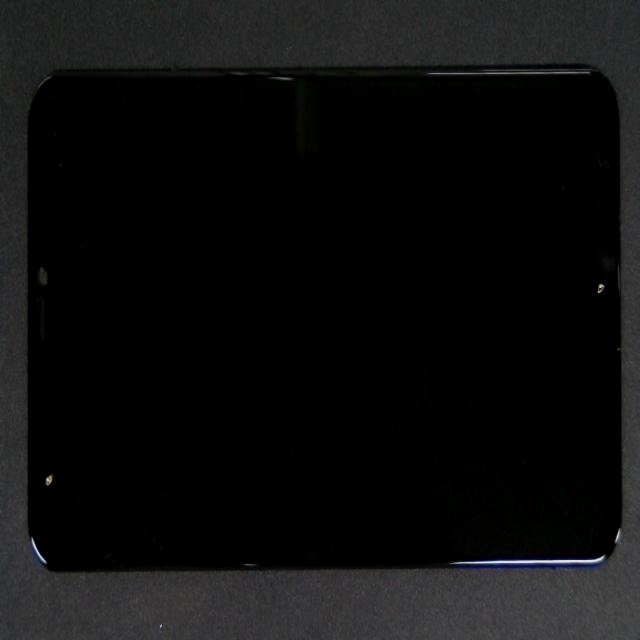stain: (3, 199, 53, 640)
